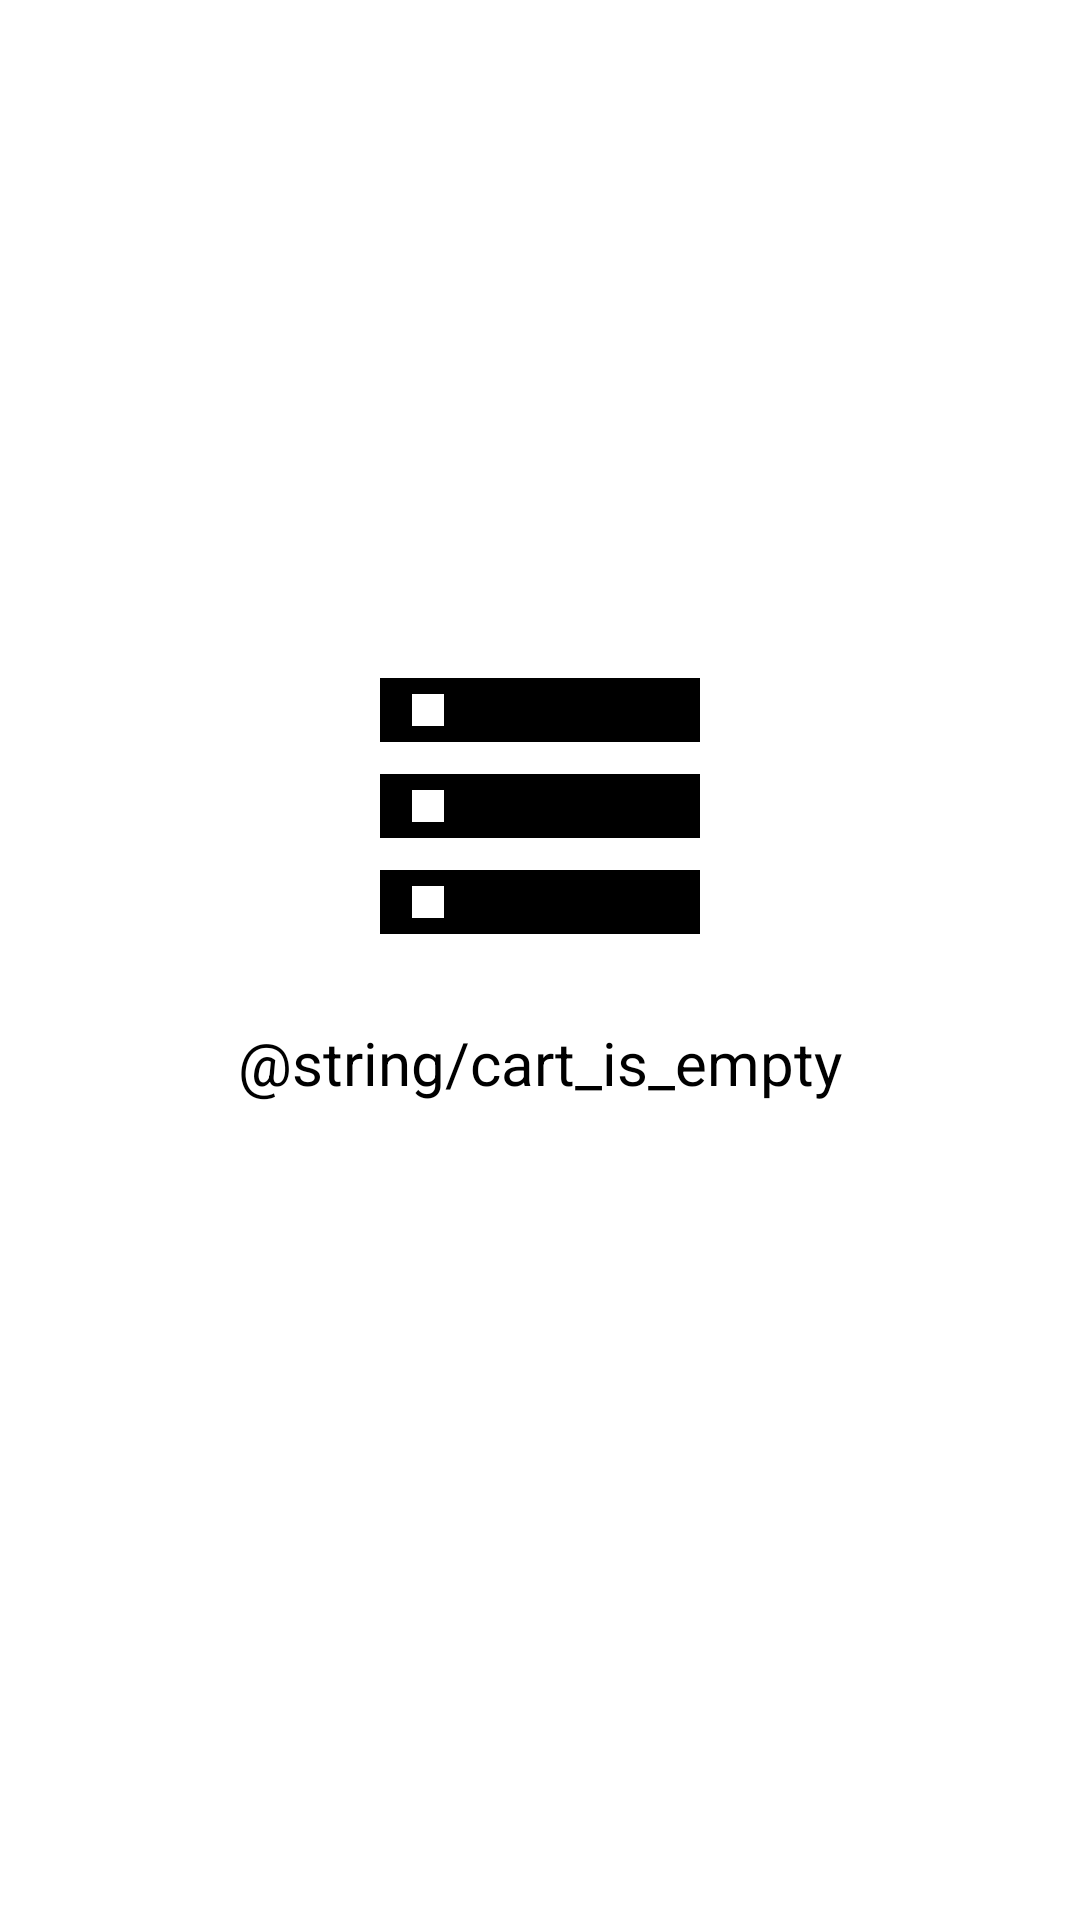

Icon bounding boxes for this 1080x1920 phone screenshot, format (x1, y1, x2, y2):
list is empty: (380, 678, 700, 934)
